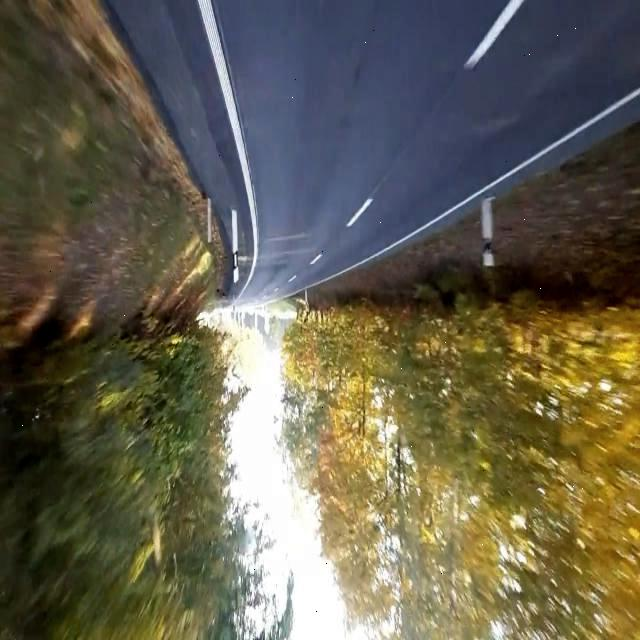lane: (305, 87, 638, 288), (198, 1, 259, 296), (464, 1, 525, 70), (348, 198, 374, 228)
road: (213, 1, 640, 304), (106, 1, 254, 257)
